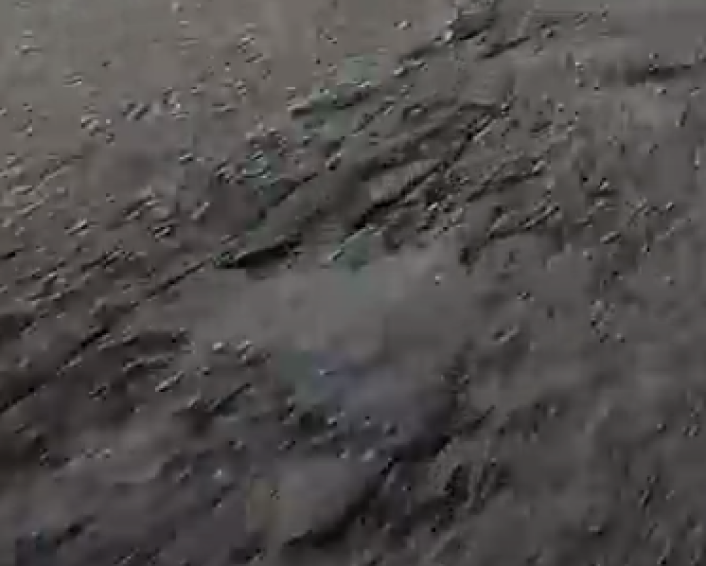Retak Buaya: (1, 314, 706, 566), (1, 26, 706, 273), (1, 258, 200, 327)
